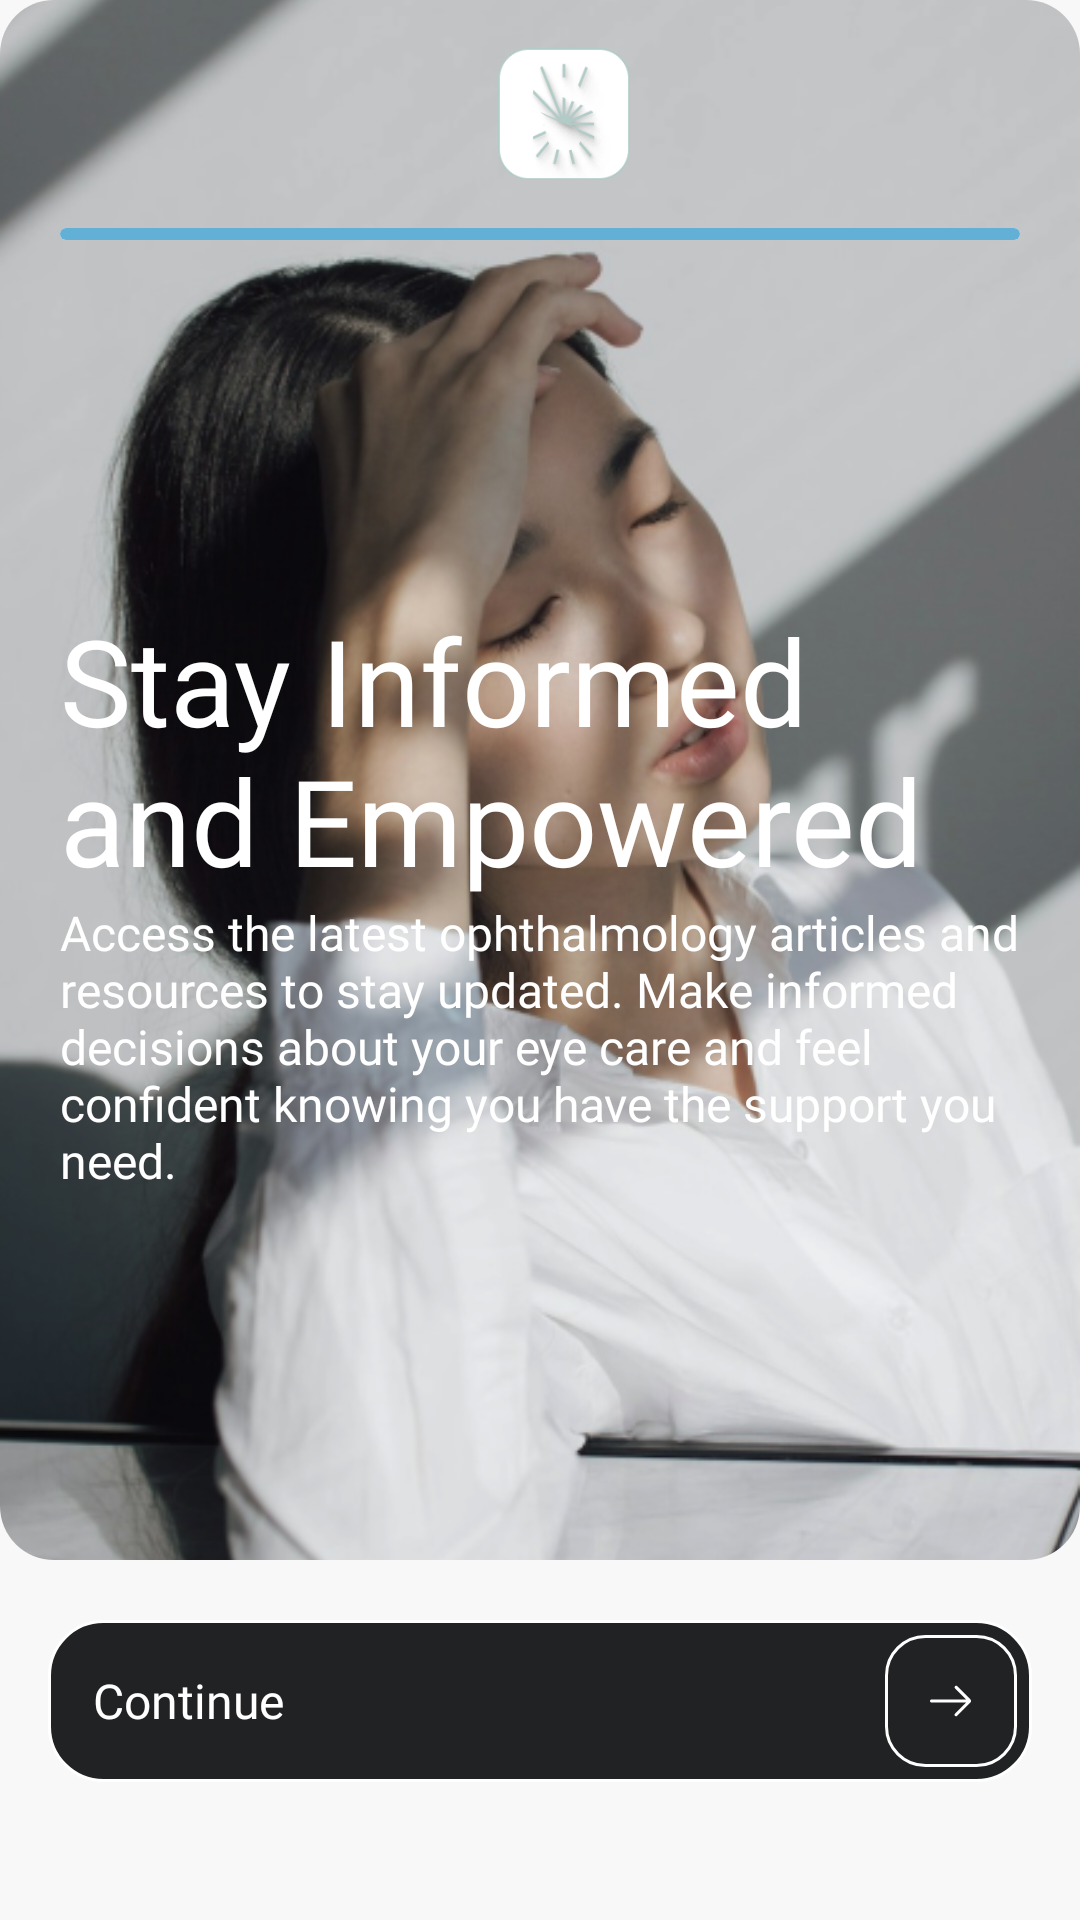

Screen size 1080*1920. Icon name, then its box in pixels as (x1, y1, x2, y2):
Next Button: (885, 1635, 1017, 1767)
